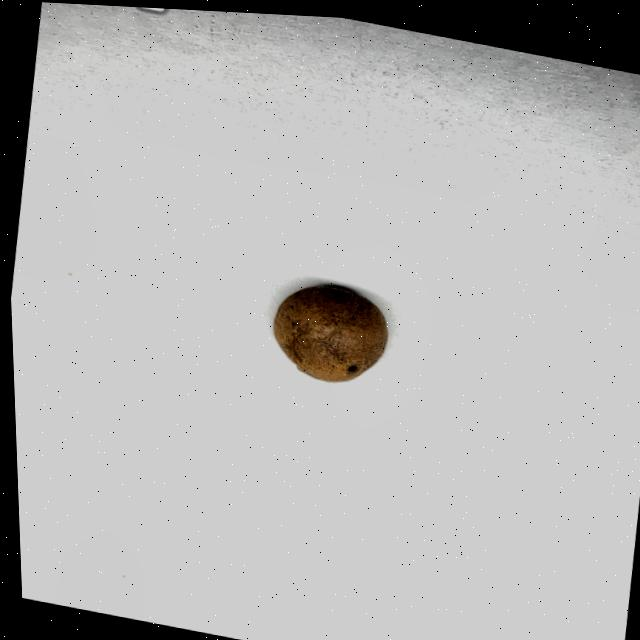Insect damage: (265, 273, 391, 390)
